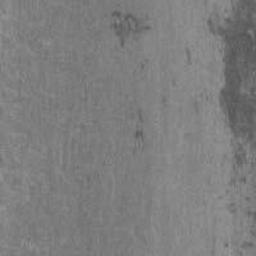Oil spot: (201, 0, 256, 250), (108, 6, 154, 51), (133, 106, 147, 155), (184, 47, 193, 68), (0, 108, 5, 140)
